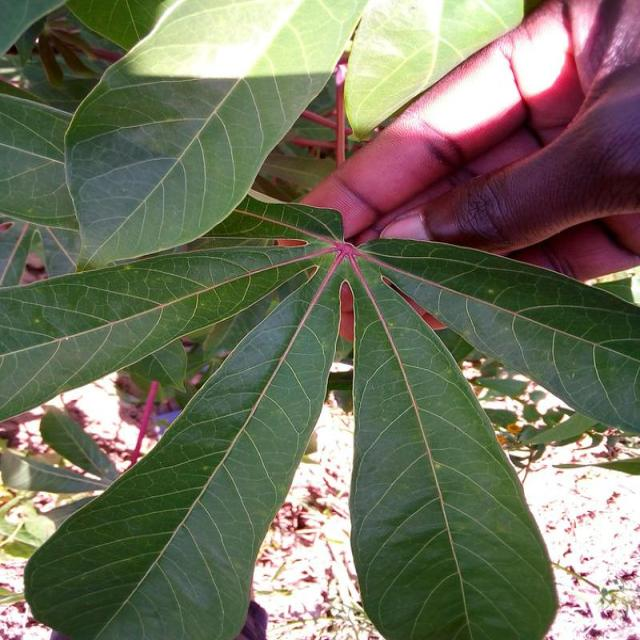cassava leaf: (2, 0, 640, 638), (23, 260, 343, 638), (62, 0, 368, 271), (349, 264, 560, 638), (344, 0, 526, 141)
